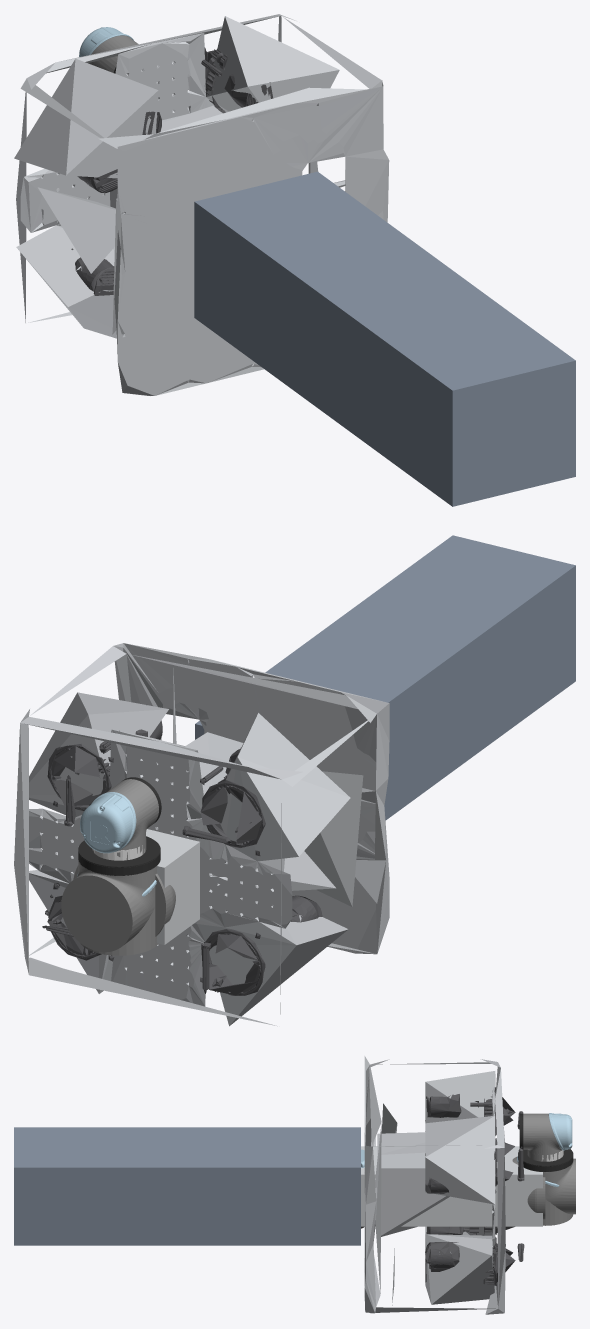
Rendered from tour_robot.glb.
3 renders of one model, top to bottom at view 1: azimuth 30°, elevation 25°; view 2: azimuth 150°, elevation 25°; view 3: azimuth 270°, elevation 25°, orthographic. The views are drawn at different scales.
Parts seen in each view (by area): view 1: body0_g0, body0_g5, body0_g1, body0_g3, body0_g2, body6_g2, body6_g1; view 2: body0_g0, body0_g5, body3_g2, body1_g0, body0_g2, body0_g3, body0_g1, body6_g1, body6_g2, body3_g1, body0_g4, body4_g2 (+1 smaller); view 3: body0_g5, body0_g0, body1_g0, body0_g4, body6_g2, body0_g2, body3_g2, body0_g1, body6_g1, body3_g1, body0_g3, body2_g1 (+1 smaller).
Part boxes in pixels (<box>): body0_g0: <box>14,14,389,395</box>; body0_g5: <box>194,171,575,506</box>; body0_g1: <box>201,47,273,113</box>; body0_g3: <box>71,248,114,295</box>; body0_g2: <box>77,111,161,192</box>; body6_g2: <box>88,35,138,72</box>; body6_g1: <box>79,27,133,56</box>; body0_g0: <box>14,643,389,1026</box>; body0_g5: <box>195,535,575,820</box>; body3_g2: <box>61,860,160,952</box>; body1_g0: <box>78,829,199,944</box>; body0_g2: <box>182,748,265,855</box>; body0_g3: <box>200,895,322,995</box>; body0_g1: <box>47,704,162,826</box>; body6_g1: <box>80,792,136,853</box>; body6_g2: <box>93,779,158,859</box>; body3_g1: <box>78,836,160,875</box>; body0_g4: <box>42,883,114,961</box>; body4_g2: <box>80,893,158,955</box>; body0_g5: <box>14,1127,360,1245</box>; body0_g0: <box>364,1056,505,1314</box>; body1_g0: <box>361,1146,542,1226</box>; body0_g4: <box>425,1237,524,1285</box>; body6_g2: <box>523,1113,561,1161</box>; body0_g2: <box>425,1087,523,1135</box>; body3_g2: <box>536,1158,575,1214</box>; body0_g1: <box>425,1131,524,1193</box>; body6_g1: <box>548,1113,572,1150</box>; body3_g1: <box>518,1149,573,1171</box>; body0_g3: <box>426,1226,514,1237</box>; body2_g1: <box>512,1156,545,1219</box>.
Size of the model in its own units: 0.4557 by 0.4307 by 1.17.
